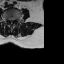CCS_normal: (10, 18, 12, 25)
LFS_severe_stenosis: (14, 18, 16, 23)
LLS_severe_stenosis: (12, 18, 14, 24)
RFS_severe_stenosis: (7, 17, 8, 23)
RLS_severe_stenosis: (8, 18, 10, 24)
